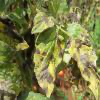Tomato Early blight leaf: (65, 24, 99, 98), (36, 27, 64, 98), (1, 14, 31, 52), (31, 6, 56, 32)
